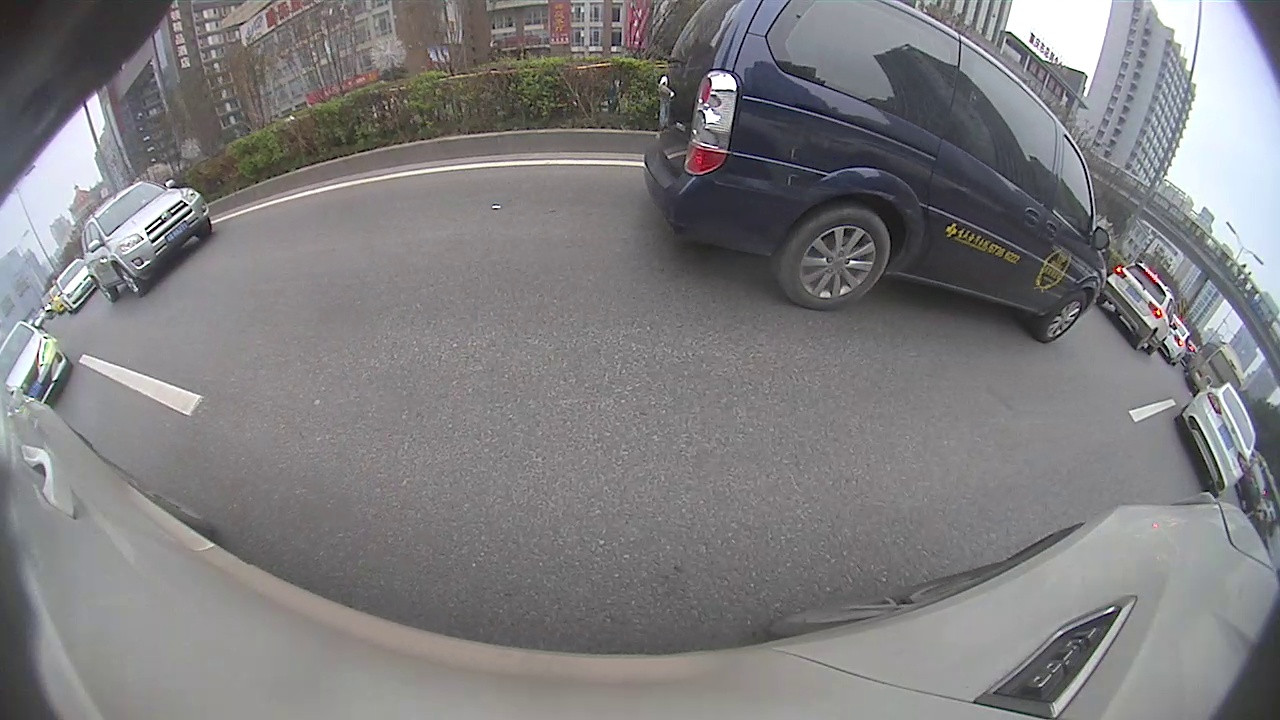car: (642, 1, 1109, 346), (80, 177, 213, 303), (1177, 382, 1257, 499), (1097, 260, 1177, 354)
front: (1035, 295, 1092, 341), (112, 262, 142, 298)
rear: (778, 208, 889, 312)
